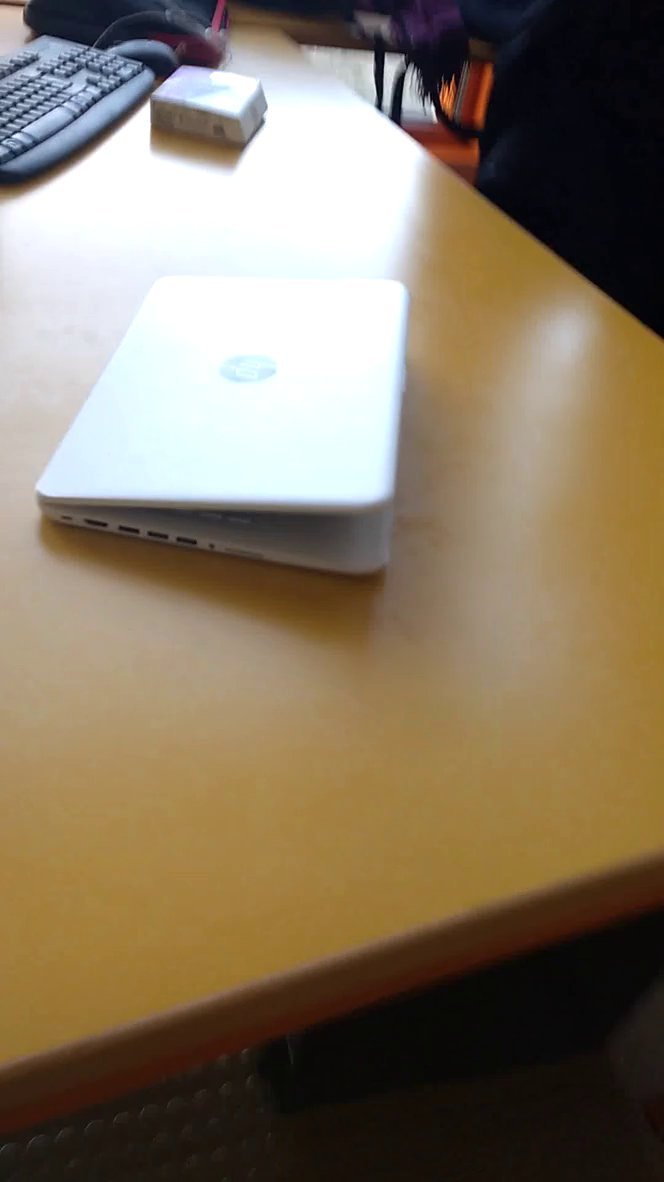laptop: (30, 262, 441, 596)
